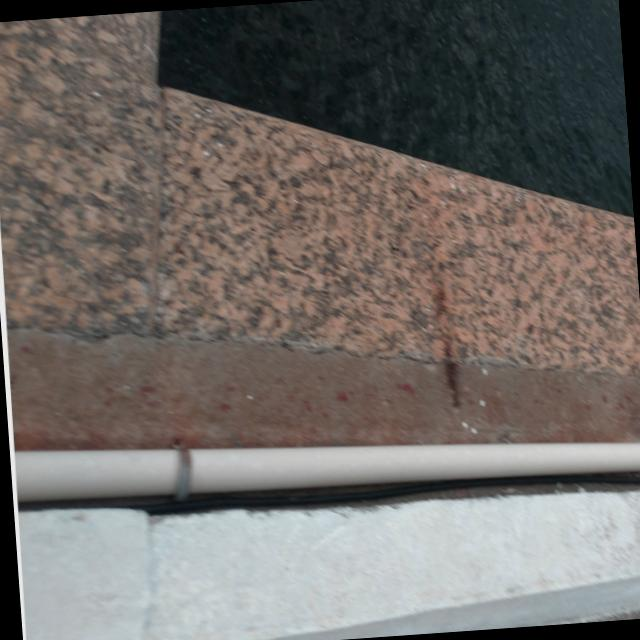gas: (15, 398, 640, 523)
